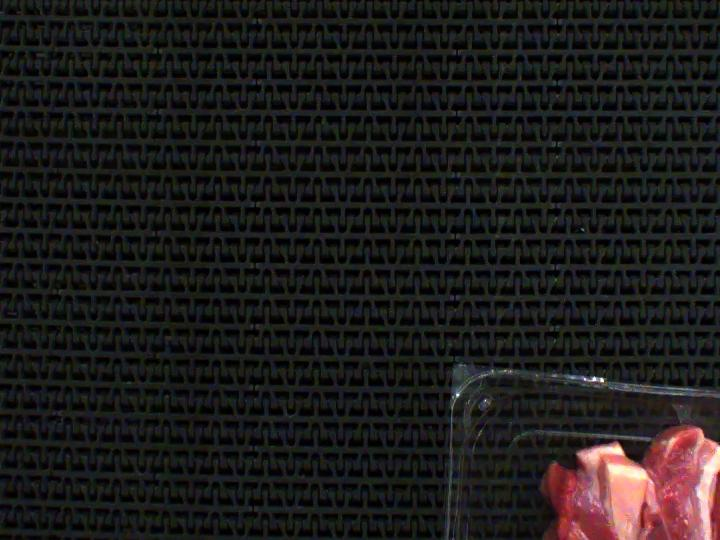packaging-error: (657, 394, 694, 428)
